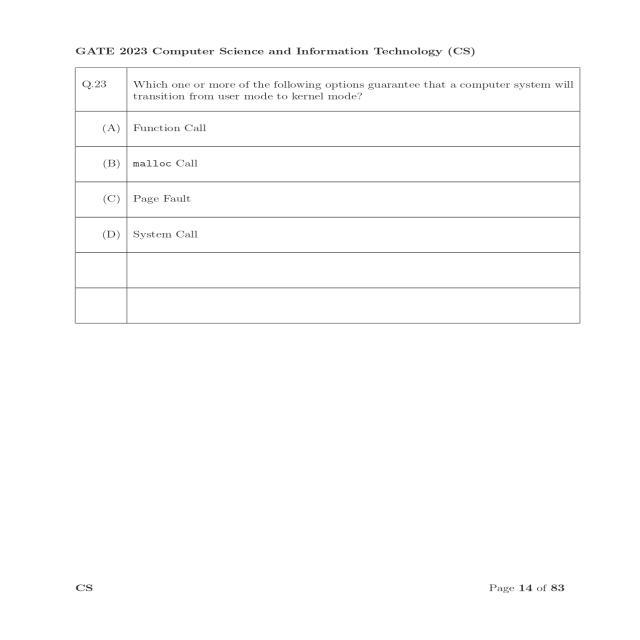Answer_Block: (74, 111, 586, 252)
Question_Answer_Block: (76, 66, 584, 255)
Question_Block: (74, 67, 580, 110)
Question_Paper_Area: (72, 42, 582, 326)
